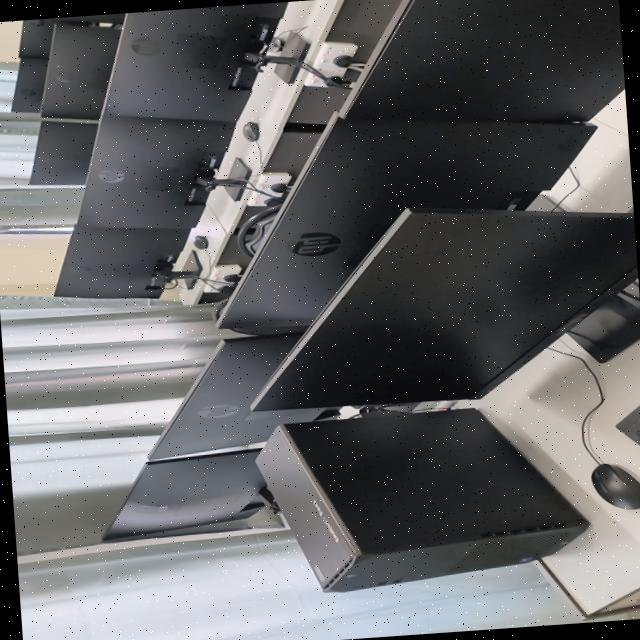Cpu: (254, 408, 587, 592)
Keyboard: (614, 403, 640, 446)
Monitor: (216, 117, 595, 333), (252, 208, 640, 409), (344, 0, 624, 123), (148, 333, 336, 460), (105, 4, 278, 121), (79, 113, 233, 228), (104, 449, 265, 539), (54, 226, 188, 298), (40, 23, 119, 119), (27, 121, 96, 184), (10, 50, 47, 112), (18, 18, 55, 59)
Mouse: (590, 463, 640, 509), (241, 122, 258, 141), (191, 235, 207, 249)
